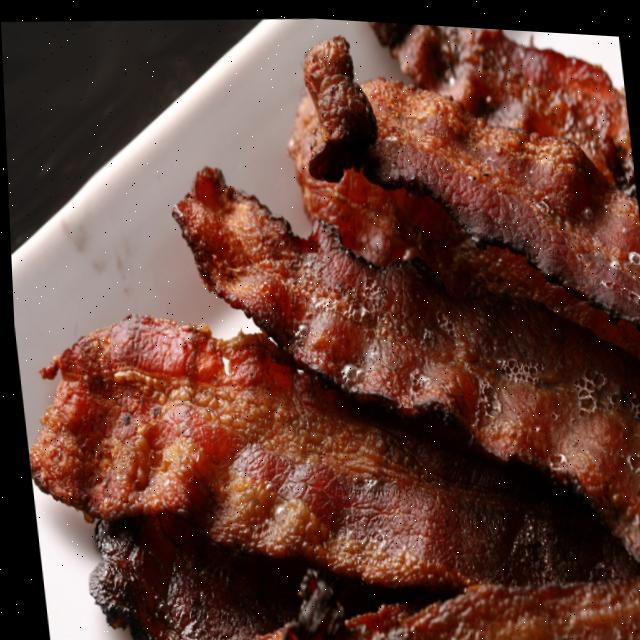Bacon: (172, 165, 640, 555), (24, 314, 638, 584), (361, 73, 640, 323), (392, 19, 635, 190)
